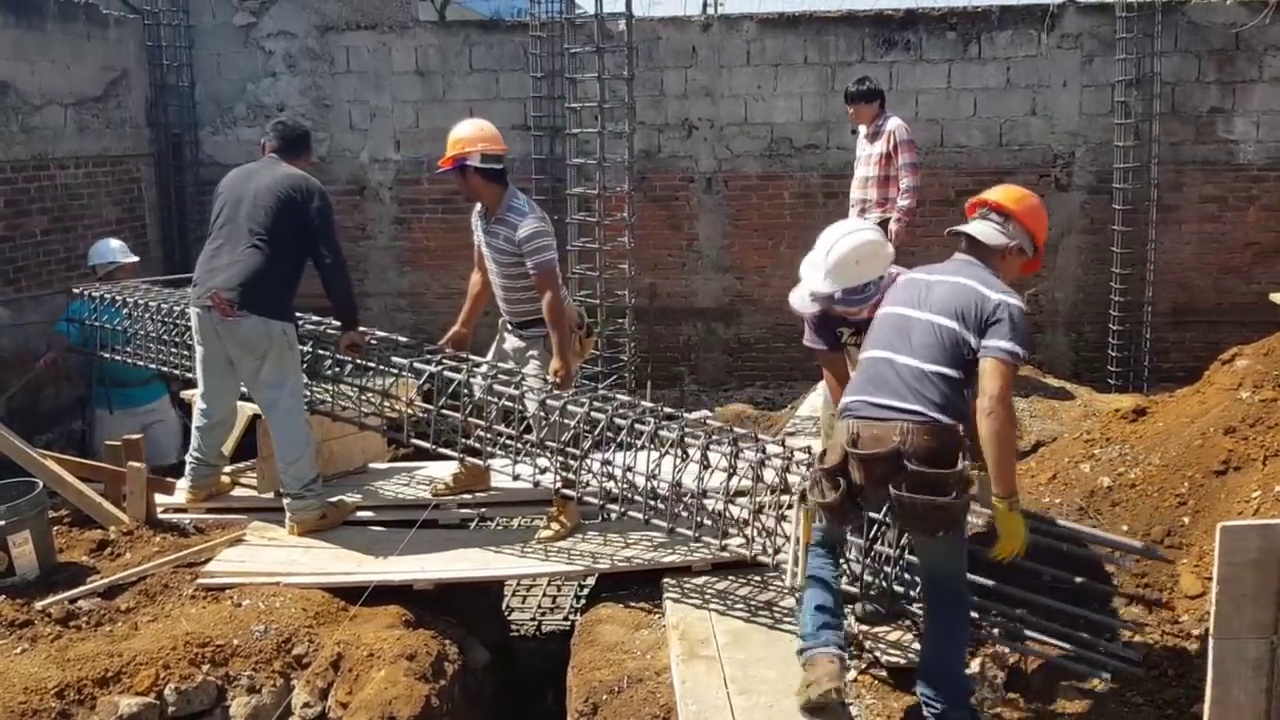helmet: (797, 221, 889, 305), (968, 181, 1048, 267), (435, 118, 508, 173), (88, 236, 140, 272)
helmet-off: (258, 119, 318, 173), (845, 73, 889, 125)
helmet-on: (940, 180, 1050, 286), (790, 220, 896, 329), (432, 120, 509, 210), (88, 234, 143, 289)
person: (825, 191, 1061, 715), (179, 105, 376, 543), (433, 118, 589, 533), (772, 226, 909, 482), (48, 232, 179, 486), (830, 81, 922, 244)
